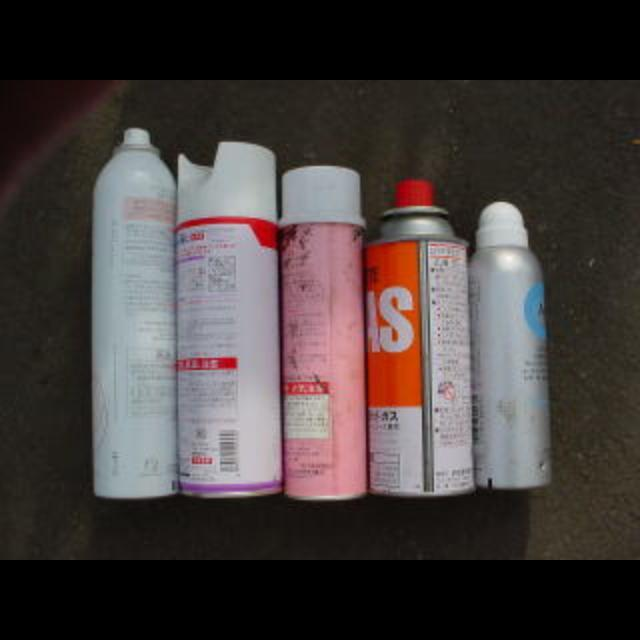chemical_spray_can: (178, 142, 282, 498), (366, 180, 476, 497), (94, 128, 178, 499), (282, 166, 368, 501), (472, 202, 554, 490)
